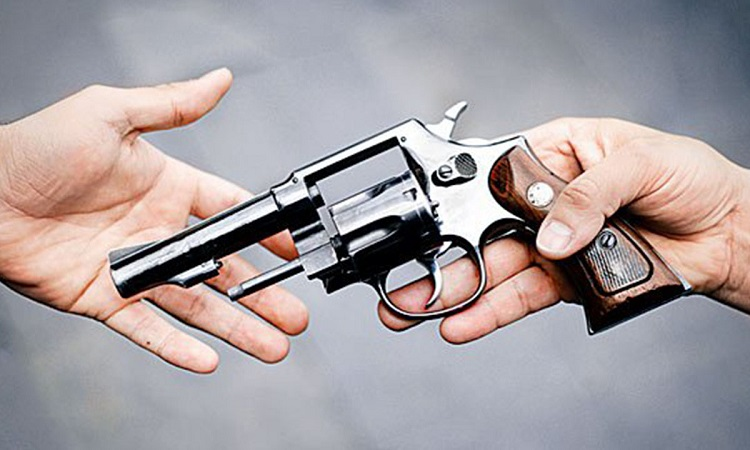gun: (95, 96, 699, 344)
